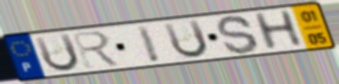H: (250, 8, 307, 53)
I: (134, 23, 163, 64)
R: (69, 29, 124, 70)
S: (214, 14, 262, 56)
U: (32, 31, 82, 74), (161, 18, 211, 60)
